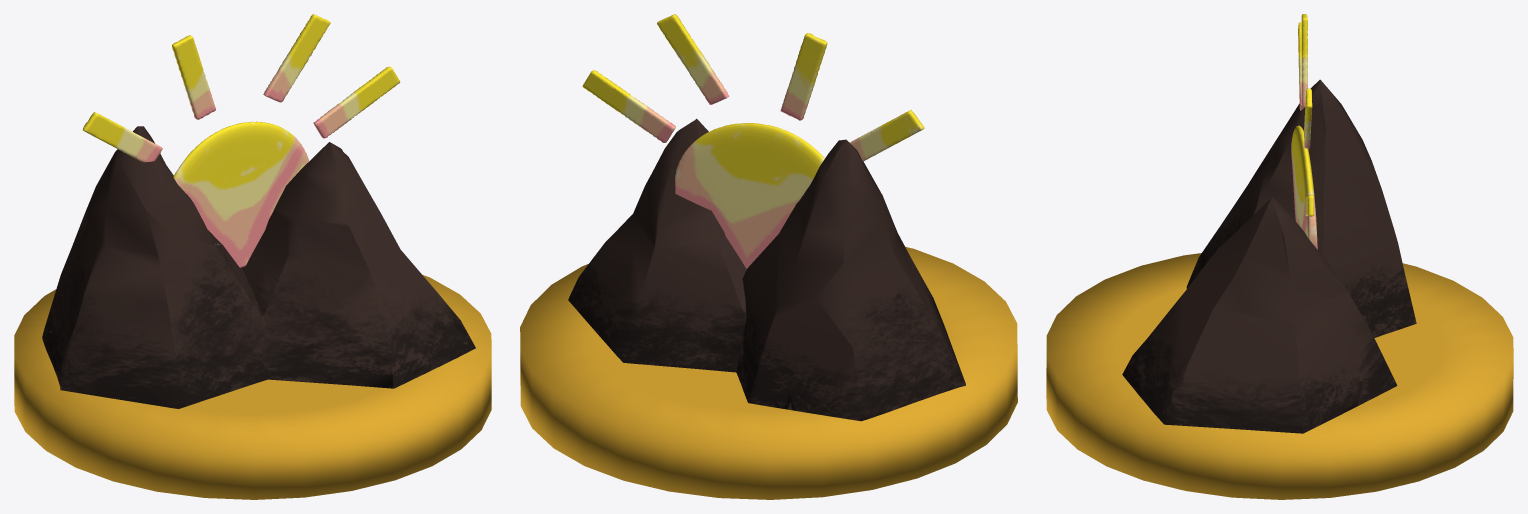
File: Plate 3.obj
The picture shows the model from 3 angles, left to right: view 1: azimuth 30°, elevation 25°; view 2: azimuth 150°, elevation 25°; view 3: azimuth 270°, elevation 25°; orthographic projection. The views are drawn at different scales.
Visible parts, largest first — view 1: Mountain_body, Cylinder, Cylinder_1; view 2: Mountain_body, Cylinder, Cylinder_1; view 3: Cylinder, Mountain_body, Cylinder_1.
Part boxes in pixels (bbox=[...]): Mountain_body: bbox=[42, 126, 475, 408]; Cylinder: bbox=[14, 275, 491, 499]; Cylinder_1: bbox=[82, 14, 399, 267]; Mountain_body: bbox=[568, 118, 965, 421]; Cylinder: bbox=[520, 247, 1017, 499]; Cylinder_1: bbox=[582, 14, 924, 268]; Cylinder: bbox=[1046, 253, 1513, 499]; Mountain_body: bbox=[1122, 79, 1416, 433]; Cylinder_1: bbox=[1291, 14, 1317, 249].
Size of the model in its own units: 0.2484 by 0.2105 by 0.2473.
Materials: 3 (3 with a texture image).
